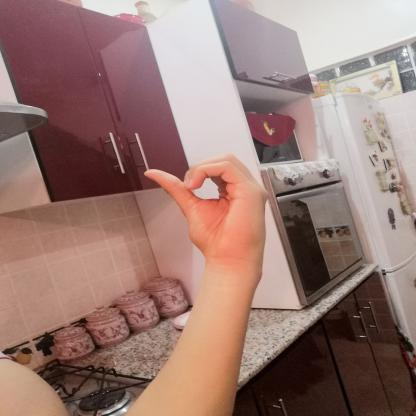WAW: (132, 143, 280, 275)
